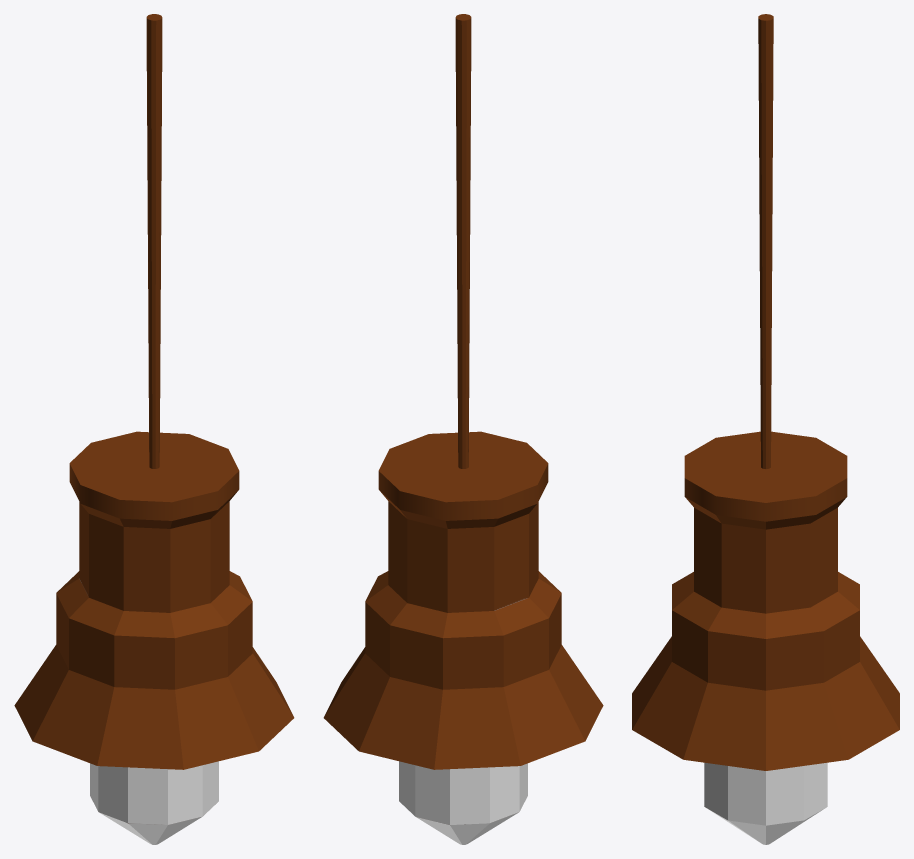
Rendered from pub_light.FBX.
3 renders of one model, left to right at view 1: azimuth 30°, elevation 25°; view 2: azimuth 150°, elevation 25°; view 3: azimuth 270°, elevation 25°, orthographic.
Parts seen in each view (by area): view 1: pub_light; view 2: pub_light; view 3: pub_light.
Part boxes in pixels (x1=…): pub_light: x1=14, y1=14, x2=294, y2=844; pub_light: x1=323, y1=14, x2=603, y2=844; pub_light: x1=632, y1=14, x2=899, y2=844.
Bounding box in the file's own units: 6.96 × 22.52 × 6.62.
1 material, 1 textured.
